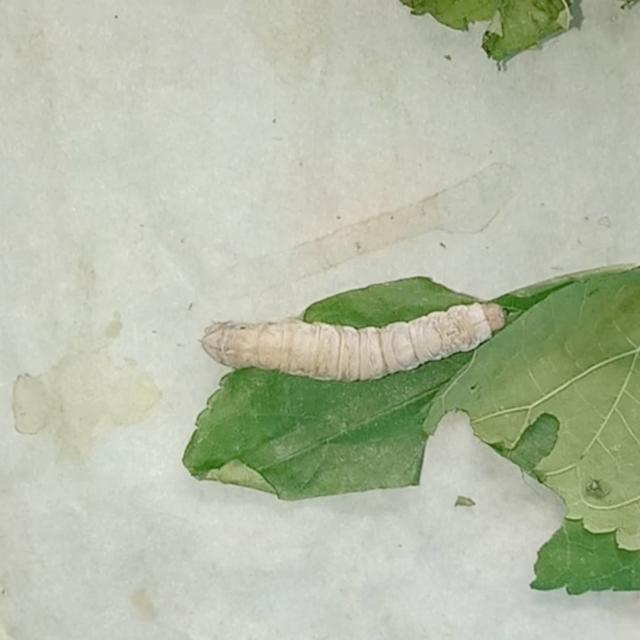Grasserie: (188, 262, 530, 424)
